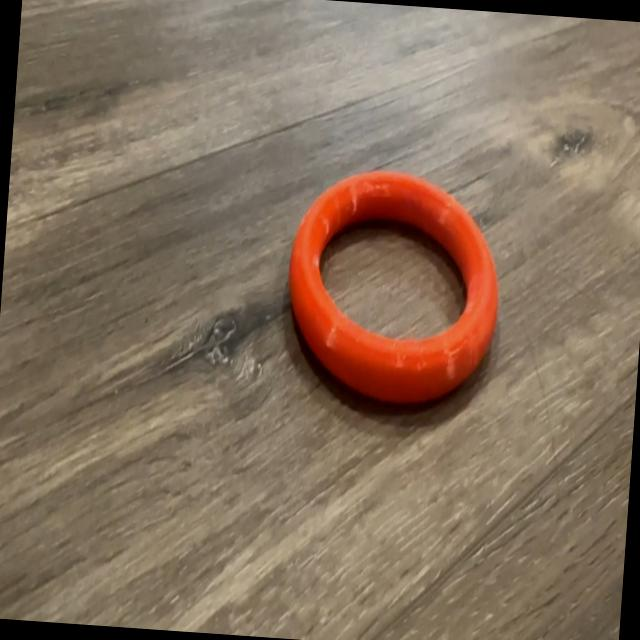note: (278, 156, 509, 428)
